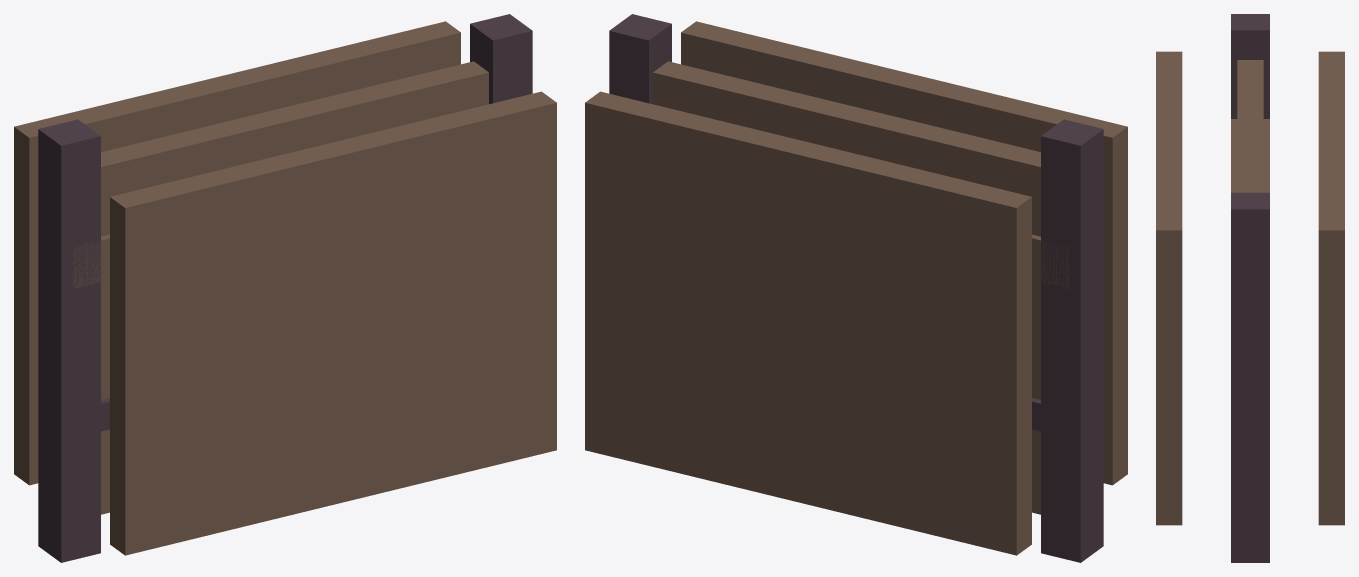
File: fence_gate.glb
3 views of the same model, side by side, from view 1: azimuth 30°, elevation 25°; view 2: azimuth 150°, elevation 25°; view 3: azimuth 270°, elevation 25° (orthographic). The views are drawn at different scales.
Parts seen in each view (by area): view 1: fence_gate; view 2: fence_gate; view 3: fence_gate.
Part boxes in pixels (x1,y1,x2,y2): fence_gate: (14,14,556,562); fence_gate: (585,14,1127,562); fence_gate: (1156,14,1344,562).
Size of the model in its own units: 1.42 by 1.2 by 0.58.
